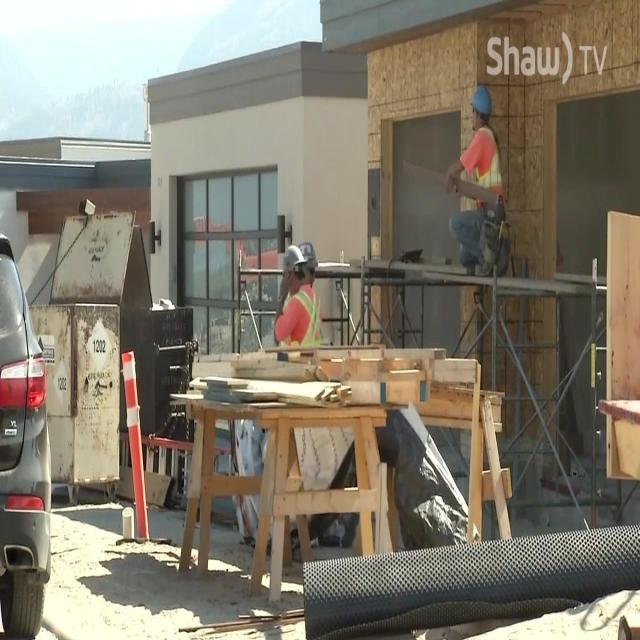Vest: (460, 124, 504, 205), (276, 284, 322, 348)
